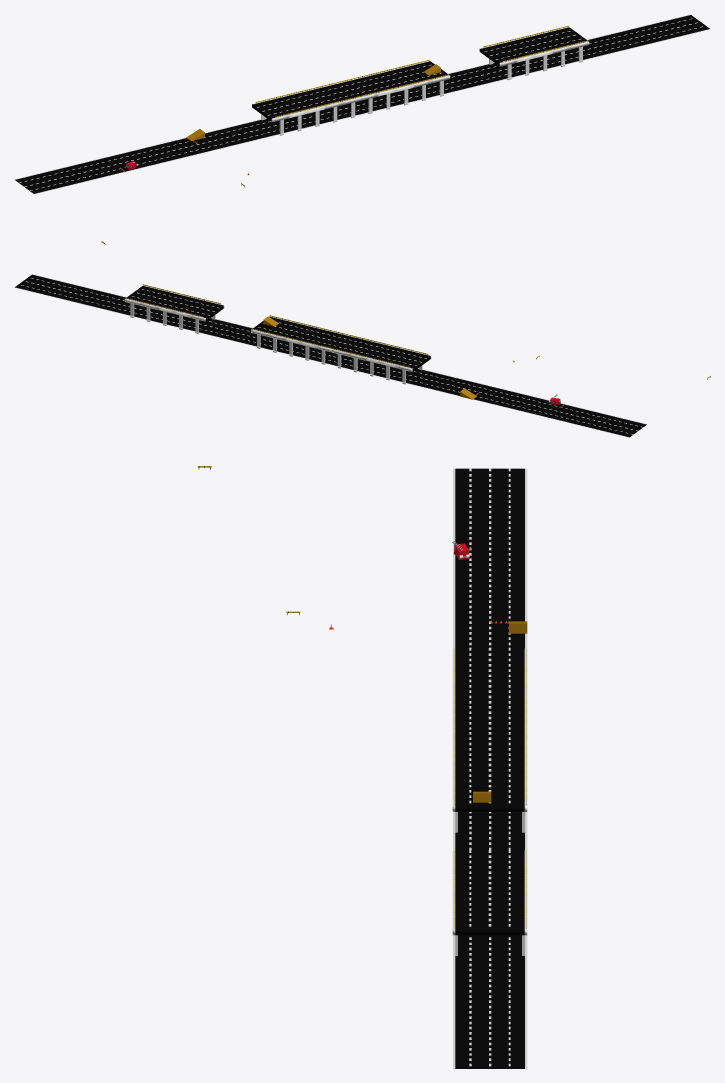
File: bolum4.fbx
3 views of the same model, one above another, from view 1: azimuth 30°, elevation 25°; view 2: azimuth 150°, elevation 25°; view 3: azimuth 270°, elevation 25° (orthographic). The views are drawn at different scales.
Parts seen in each view (by area): view 1: YOL, YOL2.002, YOL2, YOL2.001, KOLONLAR, KOLONLAR.002; view 2: YOL, YOL2.002, YOL2, YOL2.001, KOLONLAR, KOLONLAR.002, KOLONLAR.001; view 3: YOL, YOL2.002, YOL2.001, YOL2.
Boxes of the visible parts, x1=… form: YOL: x1=14, y1=14, x2=710, y2=194; YOL2.002: x1=479, y1=25, x2=589, y2=66; YOL2: x1=252, y1=81, x2=361, y2=122; YOL2.001: x1=341, y1=59, x2=450, y2=100; KOLONLAR: x1=261, y1=102, x2=355, y2=135; KOLONLAR.002: x1=489, y1=46, x2=582, y2=80; YOL: x1=14, y1=274, x2=647, y2=437; YOL2.002: x1=124, y1=284, x2=224, y2=321; YOL2: x1=331, y1=335, x2=431, y2=372; YOL2.001: x1=251, y1=315, x2=349, y2=352; KOLONLAR: x1=337, y1=354, x2=422, y2=384; KOLONLAR.002: x1=130, y1=303, x2=215, y2=333; KOLONLAR.001: x1=257, y1=334, x2=325, y2=364; YOL: x1=453, y1=468, x2=527, y2=1068; YOL2.002: x1=452, y1=850, x2=527, y2=935; YOL2.001: x1=452, y1=725, x2=527, y2=811; YOL2: x1=452, y1=648, x2=527, y2=727.
Size of the model in its own units: 7594 by 260 by 1763.
